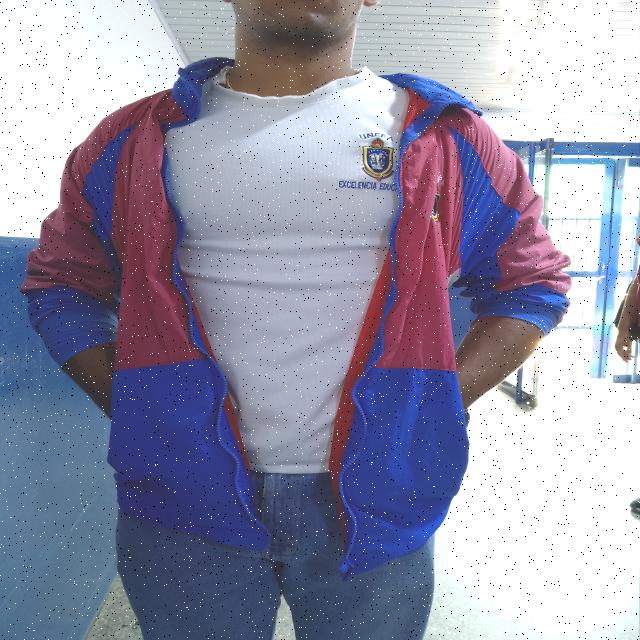chaqueta_unefa: (20, 55, 571, 577)
